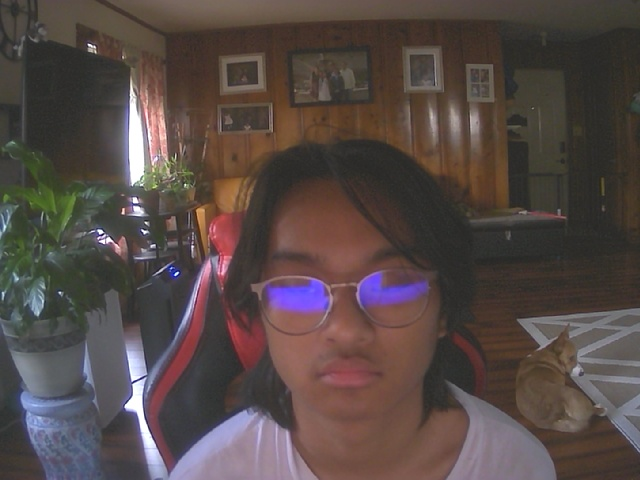neutral: (246, 141, 457, 425)
